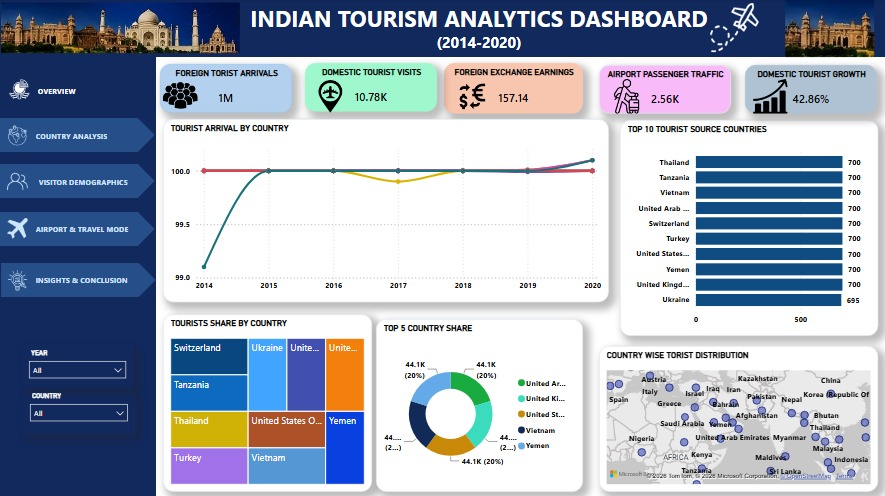

Layout of this report page (visuals, bound fields, positions):
{"tool":"powerbi","page":{"name":"COUNTRY ANALYSIS","canvas":[1280,720],"ordinal":1},"visuals":[{"type":"shape","box":[0,76.3,224.6,643.7],"z":0},{"type":"actionButton","box":[50.4,119.5,99.4,25.9],"z":1000},{"type":"cardVisual","title":" FOREIGN TORIST ARRIVALS","fields":{"Data":["Sum(General Data 2014-2020.feeftit)"]},"box":[230.4,93.6,190,70],"z":2000},{"type":"cardVisual","title":"AIRPORT PASSENGER TRAFFIC","fields":{"Data":["Sum(General Data 2014-2020.apfitr)"]},"box":[862.6,95,190,70],"z":3000},{"type":"treemap","title":"TOURISTS SHARE BY COUNTRY","fields":{"Values":["Sum(Country Wise Age Group.Value)"],"Group":["Country Wise Visitors Ways.Country of Nationality"]},"box":[234.7,453.6,301,256.3],"z":4000},{"type":"cardVisual","title":" FOREIGN EXCHANGE EARNINGS","fields":{"Data":["Sum(General Data 2014-2020.feeftust)"]},"box":[639.4,92.2,200,73.4],"z":5000},{"type":"cardVisual","title":"DOMESTIC TOURIST VISITS","fields":{"Data":["Sum(General Data 2014-2020.nodtvasu)"]},"box":[438.8,92.2,190,70],"z":6000},{"type":"slicer","fields":{"Values":["Country Wise Airport.Attribute.1"]},"box":[31.7,498.2,159.8,61.9],"z":7000},{"type":"lineChart","title":"TOURIST ARRIVAL BY COUNTRY","fields":{"Series":["Country Wise Visitors Ways.Country of Nationality"],"Y":["Sum(Country Wise Visitors Ways.Value)"],"Category":["Country Wise Visitors Ways.Attribute.1"]},"box":[234.7,172.8,642.2,263.5],"z":8000},{"type":"image","box":[12.7,115,30,30],"z":9000},{"type":"clusteredBarChart","title":"TOP 10 TOURIST SOURCE COUNTRIES","fields":{"Category":["Country Wise Visitors Ways.Country of Nationality"],"Y":["Sum(Country Wise Visitors Ways.Value)"]},"box":[892.8,174.2,371.5,311],"z":10000},{"type":"image","box":[9.9,182,30,30],"z":11000},{"type":"actionButton","box":[47.5,182.2,130.4,29.8],"z":12000},{"type":"image","box":[9.9,315.9,30,30],"z":13000},{"type":"actionButton","box":[47.5,315.8,151.2,30.2],"z":14000},{"type":"image","box":[9.9,247.5,30,30],"z":15000},{"type":"actionButton","box":[51.8,247.4,148.3,30.2],"z":16000},{"type":"shape","box":[0,0,1278.7,83.5],"z":17000},{"type":"image","box":[1006.6,5.8,102.2,70.6],"z":18000},{"type":"cardVisual","title":"DOMESTIC TOURIST GROWTH","fields":{"Data":["Avg(General Data 2014-2020.nodtvasuagr)"]},"box":[1072.8,95,190,70],"z":19000},{"type":"donutChart","title":"TOP 5 COUNTRY SHARE","fields":{"Y":["Sum(Country Wise Gender.Value)"],"Category":["Country Wise Visitors Ways.Country of Nationality"]},"box":[541.4,460.8,298.1,249.1],"z":20000},{"type":"map","title":"COUNTRY WISE TORIST DISTRIBUTION","fields":{"Category":["Country Wise Visitors Ways.Country of Nationality"],"Size":["Sum(Country Wise Visitors Ways.Value)"]},"box":[862.6,499.7,401.8,210.2],"z":21000},{"type":"textbox","box":[326.9,0,725.8,89.3],"z":22000},{"type":"actionButton","box":[47.5,390.2,148.3,27.4],"z":25000},{"type":"image","box":[9.9,390.2,30,30],"z":27000},{"type":"image","box":[234.7,113.8,50,50.4],"z":29000},{"type":"image","box":[450.7,115.2,50,50],"z":30000},{"type":"image","box":[1084.3,115.2,50,50],"z":31000},{"type":"image","box":[877,115.2,50,50],"z":32000},{"type":"image","box":[655.2,115.2,50,50],"z":33000},{"type":"image","box":[1.4,0,344.2,83.5],"z":34000},{"type":"image","box":[1108.6,0,171.4,83.5],"z":35000},{"type":"shape","box":[1.4,105.1,223.2,49],"z":36000},{"type":"shape","box":[0,171.4,223.2,49],"z":37000},{"type":"shape","box":[0,237.6,223.2,49],"z":38000},{"type":"shape","box":[0,306.7,223.2,49],"z":39000},{"type":"shape","box":[1.4,380.2,223.2,49],"z":42000},{"type":"slicer","fields":{"Values":["Country Wise Age Group.Country of Nationality"]},"box":[33.1,560.2,161.3,66.2],"z":43000}]}

Visuals, with their boxes in screenshot pixels (x1, y1, x2, y2), scaled from the page's 1280x720 canvas onto the 885x496 screenshot:
shape: x1=0, y1=53, x2=155, y2=495
actionButton: x1=35, y1=82, x2=104, y2=100
" FOREIGN TORIST ARRIVALS" cardVisual: x1=159, y1=64, x2=291, y2=113
"AIRPORT PASSENGER TRAFFIC" cardVisual: x1=596, y1=65, x2=728, y2=114
"TOURISTS SHARE BY COUNTRY" treemap: x1=162, y1=312, x2=370, y2=489
" FOREIGN EXCHANGE EARNINGS" cardVisual: x1=442, y1=64, x2=580, y2=114
"DOMESTIC TOURIST VISITS" cardVisual: x1=303, y1=64, x2=435, y2=112
slicer - Country Wise Airport.Attribute.1: x1=22, y1=343, x2=132, y2=386
"TOURIST ARRIVAL BY COUNTRY" lineChart: x1=162, y1=119, x2=606, y2=301
image: x1=9, y1=79, x2=30, y2=100
"TOP 10 TOURIST SOURCE COUNTRIES" clusteredBarChart: x1=617, y1=120, x2=874, y2=334
image: x1=7, y1=125, x2=28, y2=146
actionButton: x1=33, y1=126, x2=123, y2=146
image: x1=7, y1=218, x2=28, y2=238
actionButton: x1=33, y1=218, x2=137, y2=238
image: x1=7, y1=170, x2=28, y2=191
actionButton: x1=36, y1=170, x2=138, y2=191
shape: x1=0, y1=0, x2=884, y2=58
image: x1=696, y1=4, x2=767, y2=53
"DOMESTIC TOURIST GROWTH" cardVisual: x1=742, y1=65, x2=873, y2=114
"TOP 5 COUNTRY SHARE" donutChart: x1=374, y1=317, x2=580, y2=489
"COUNTRY WISE TORIST DISTRIBUTION" map: x1=596, y1=344, x2=874, y2=489
textbox: x1=226, y1=0, x2=728, y2=62
actionButton: x1=33, y1=269, x2=135, y2=288
image: x1=7, y1=269, x2=28, y2=289
image: x1=162, y1=78, x2=197, y2=113
image: x1=312, y1=79, x2=346, y2=114
image: x1=750, y1=79, x2=784, y2=114
image: x1=606, y1=79, x2=641, y2=114
image: x1=453, y1=79, x2=488, y2=114
image: x1=1, y1=0, x2=239, y2=58
image: x1=766, y1=0, x2=884, y2=58
shape: x1=1, y1=72, x2=155, y2=106
shape: x1=0, y1=118, x2=154, y2=152
shape: x1=0, y1=164, x2=154, y2=197
shape: x1=0, y1=211, x2=154, y2=245
shape: x1=1, y1=262, x2=155, y2=296
slicer - Country Wise Age Group.Country of Nationality: x1=23, y1=386, x2=134, y2=432
